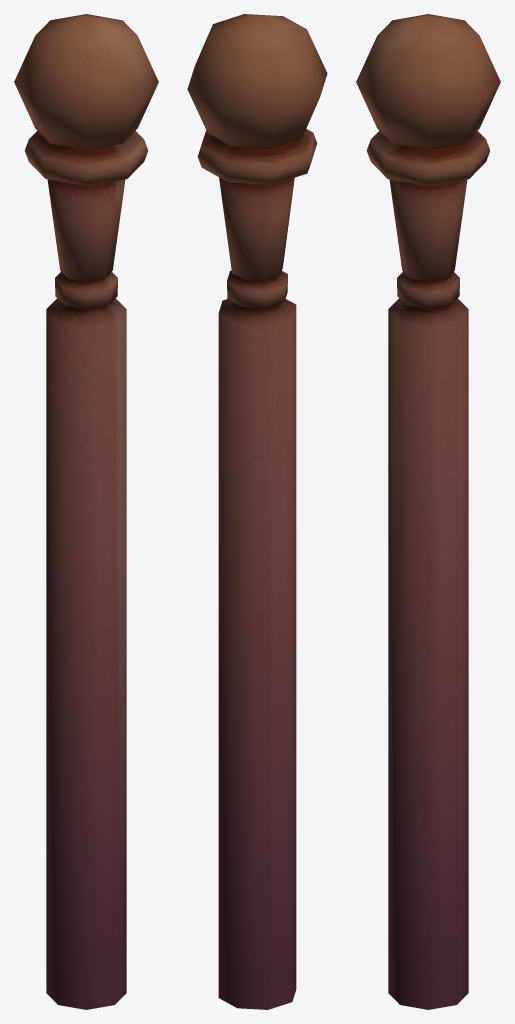
Rendered from FencePillar.fbx.
3 views of the same model, side by side, from view 1: azimuth 90°, elevation 25°; view 2: azimuth 150°, elevation 25°; view 3: azimuth 270°, elevation 25° (orthographic).
Visible parts, largest first — view 1: Cylinder.001; view 2: Cylinder.001; view 3: Cylinder.001.
Boxes of the visible parts, x1,y1,x2,y2 form: Cylinder.001: (14, 14, 158, 1009); Cylinder.001: (187, 14, 327, 1009); Cylinder.001: (356, 14, 500, 1009).
Bounding box in the file's own units: 39.19 × 291 × 39.19.
1 material, 1 textured.
